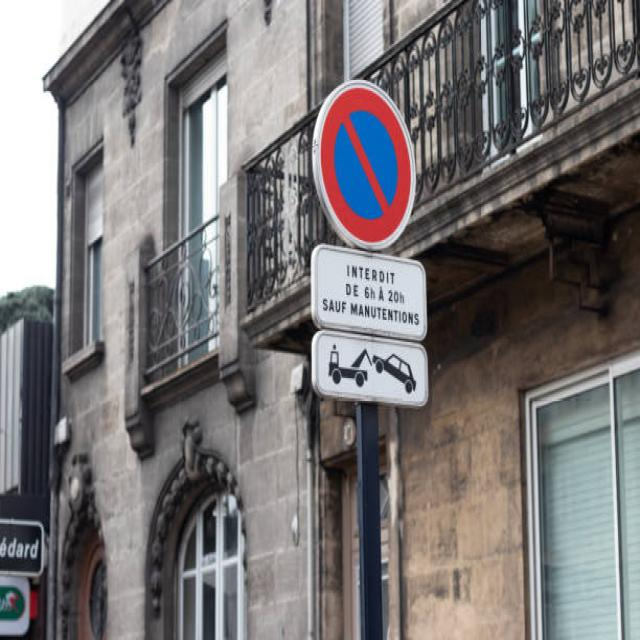forb_stopping: (311, 81, 416, 253)
